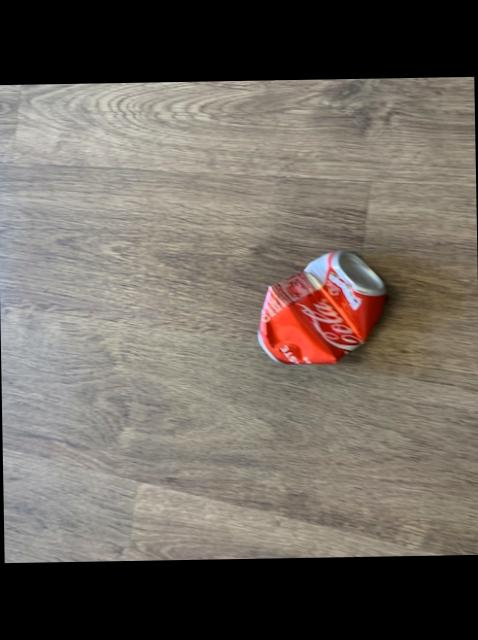metal: (259, 249, 385, 362)
